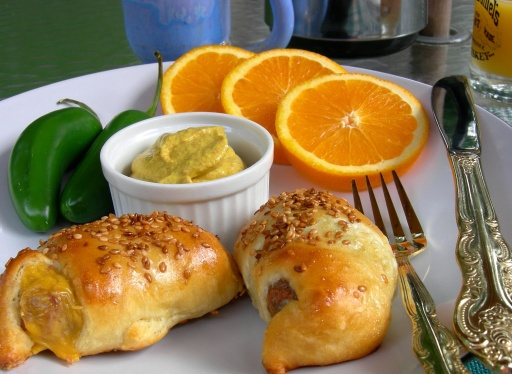background: (0, 25, 345, 218), (34, 0, 409, 46), (94, 35, 197, 107)
